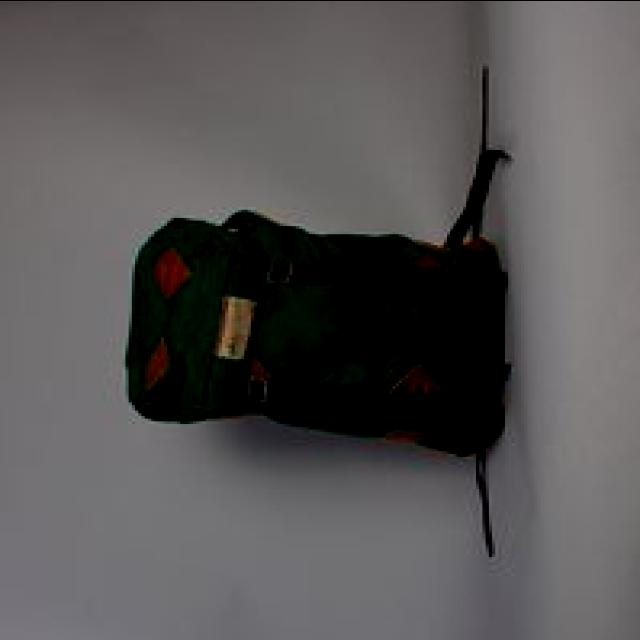backpack: (124, 66, 513, 560)
